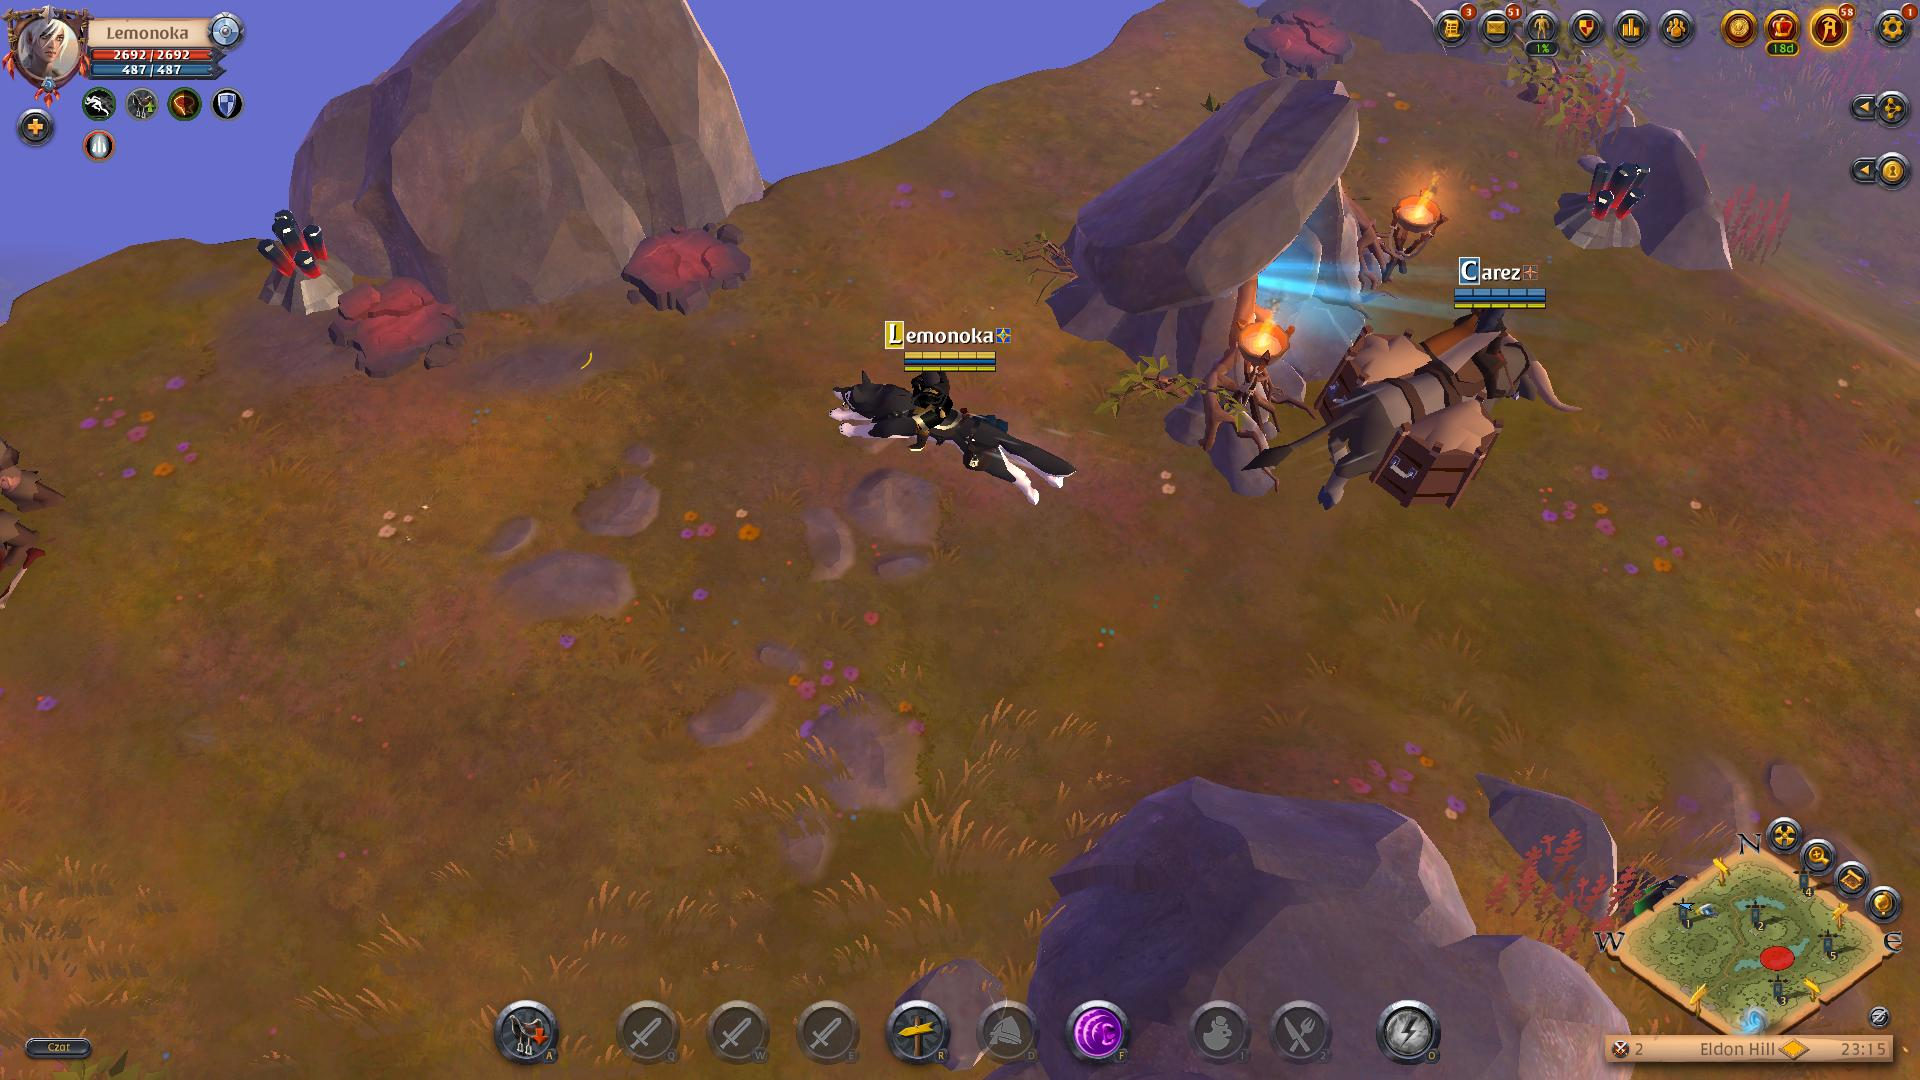ore tier 5: (1556, 150, 1654, 258), (253, 204, 349, 311)
